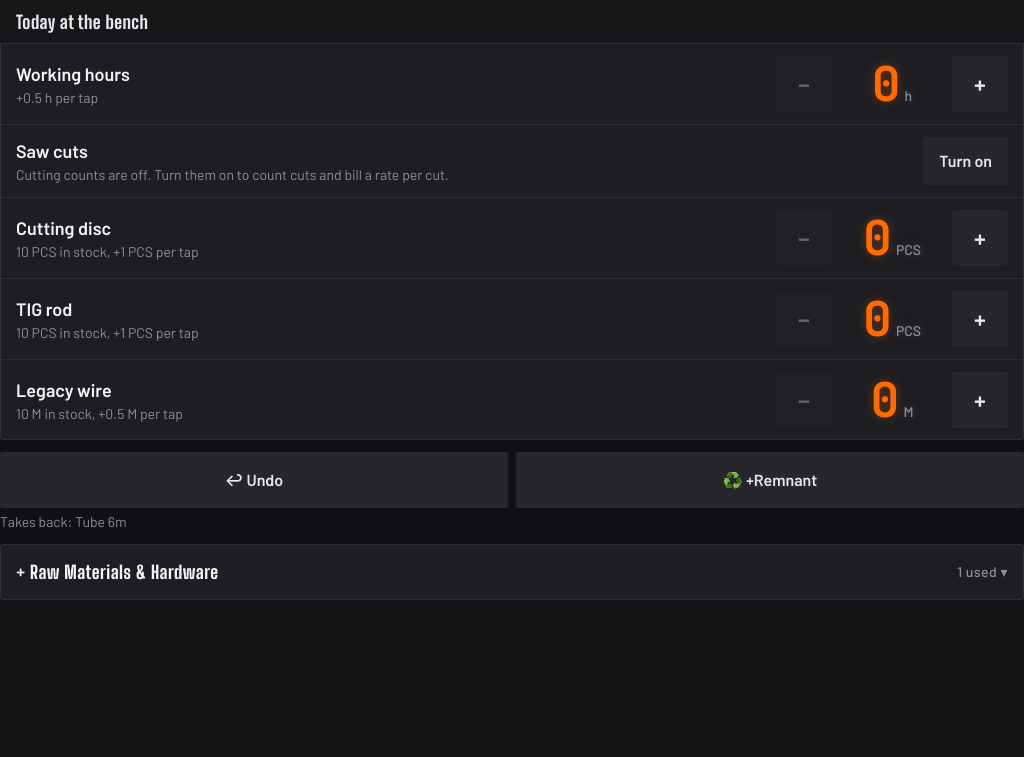
Test case: +Remnant › makes Undo wait right after a return, because the newest row on screen is not the credit yet
The width and height of the screenshot is (1024, 757).
Click the button "♻️ +Remnant": [770, 480] box top-left (516, 452), bottom-right (1023, 508)
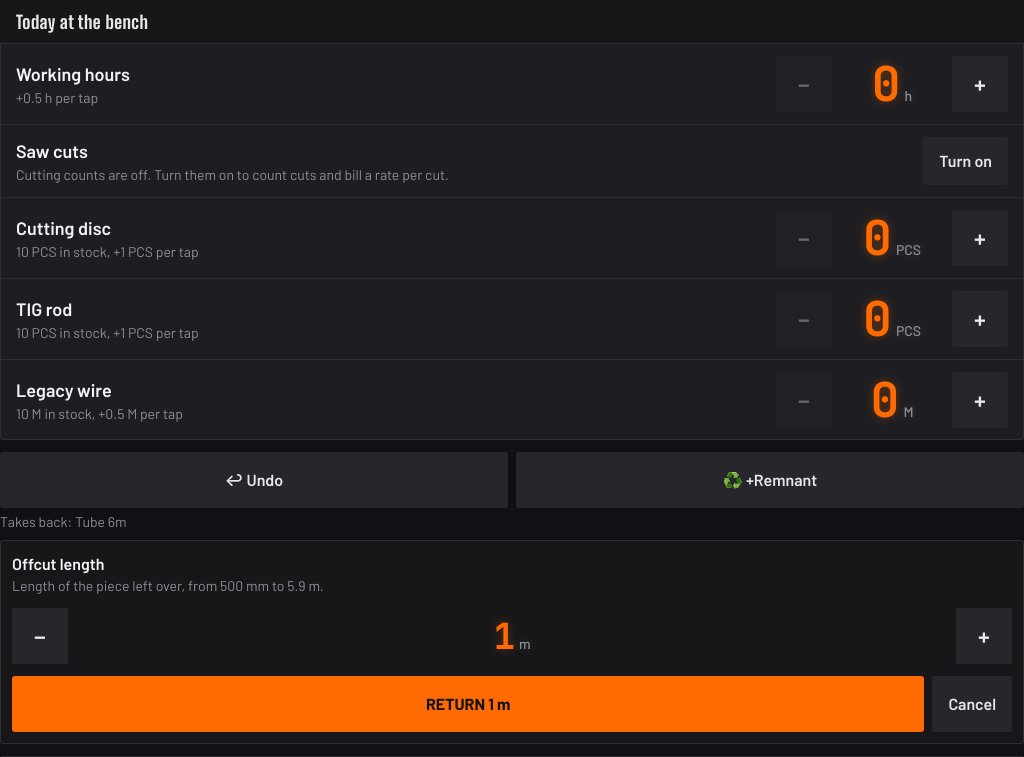
Click the button "RETURN 1 m": [468, 704] box top-left (12, 676), bottom-right (924, 732)
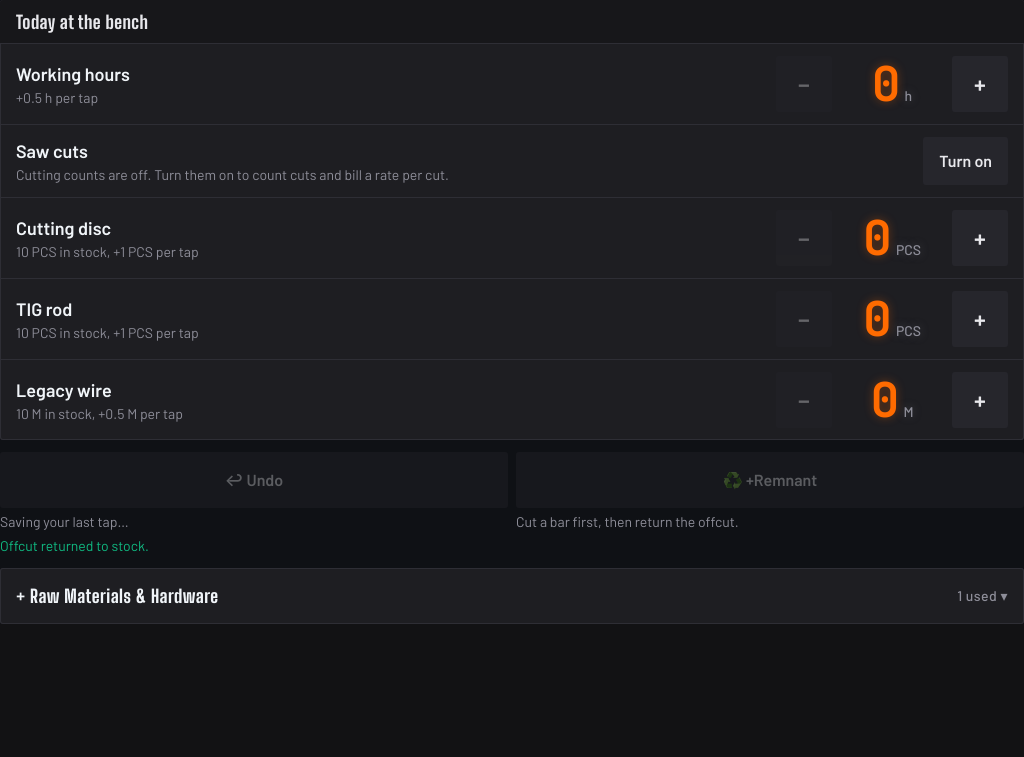
Now the button "↩ Undo" is disabled
Now the text "Saving your last tap…" is shown, box top-left (0, 513), bottom-right (129, 530)
Click the button "↩ Undo": [254, 480] box top-left (0, 452), bottom-right (508, 508)
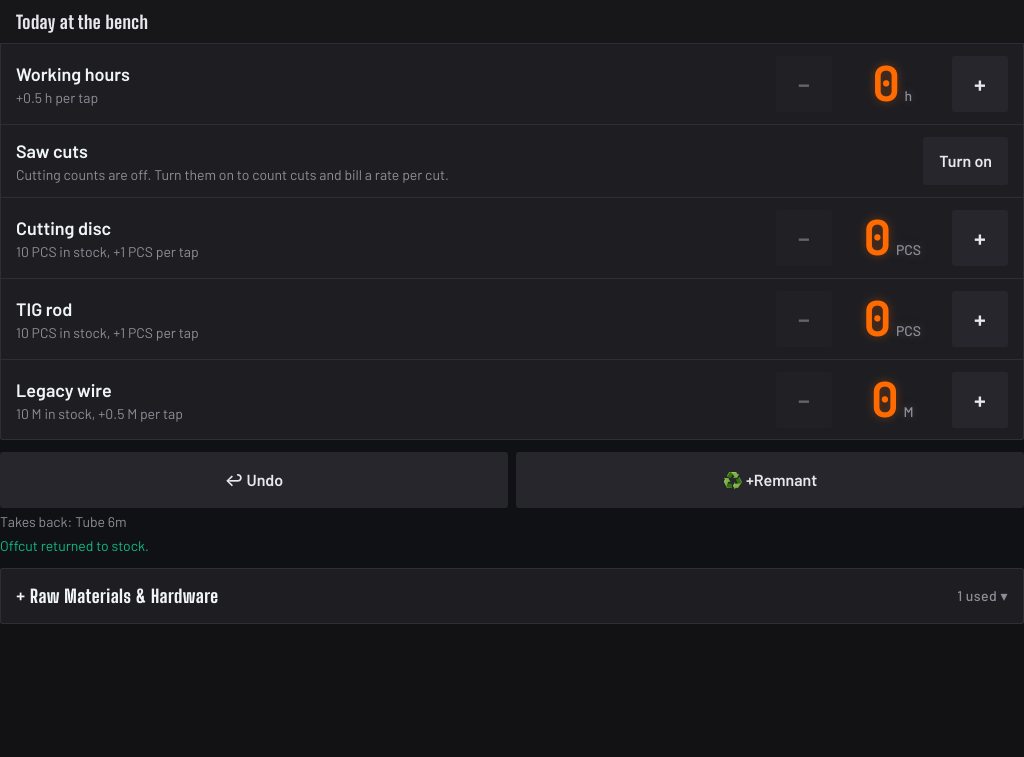
Now the button "↩ Undo" is enabled, box top-left (0, 452), bottom-right (508, 508)
